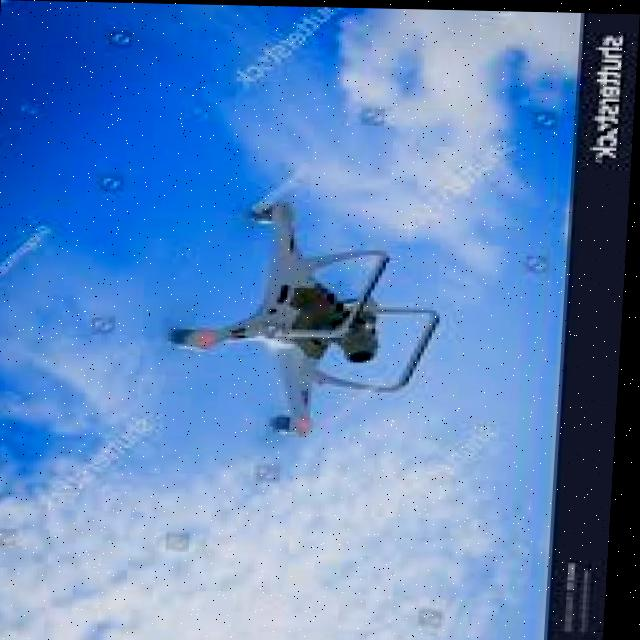drone: (150, 188, 467, 476)
